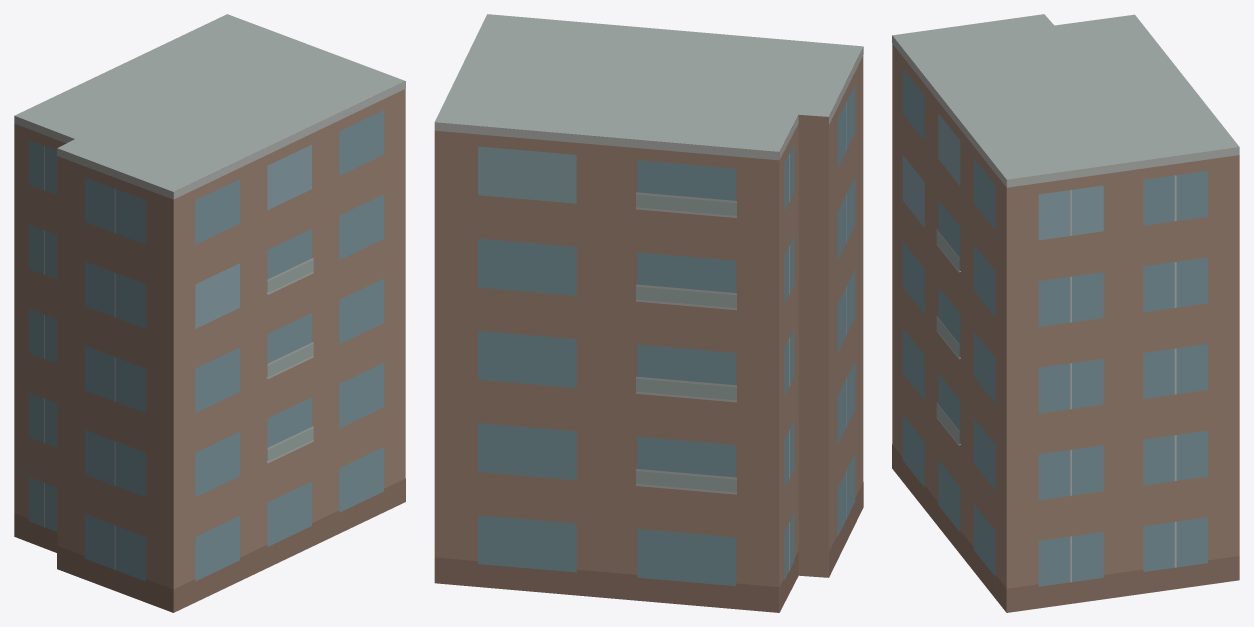
Rendered from survey-upis-32699243.glb.
3 renders of one model, left to right at view 1: azimuth 30°, elevation 25°; view 2: azimuth 150°, elevation 25°; view 3: azimuth 270°, elevation 25°, orthographic. The views are drawn at different scales.
Parts seen in each view (by area): view 1: survey-upis-32699243.tmp; view 2: survey-upis-32699243.tmp; view 3: survey-upis-32699243.tmp.
Part boxes in pixels (<box>): survey-upis-32699243.tmp: <box>14,14,405,612</box>; survey-upis-32699243.tmp: <box>434,14,863,612</box>; survey-upis-32699243.tmp: <box>892,14,1239,612</box>.
Size of the model in its own units: 10.93 by 13.3 by 9.68.
